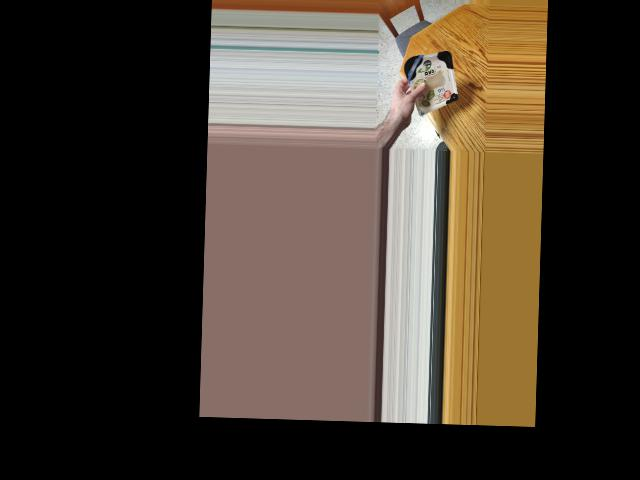cheese: (404, 51, 458, 106)
